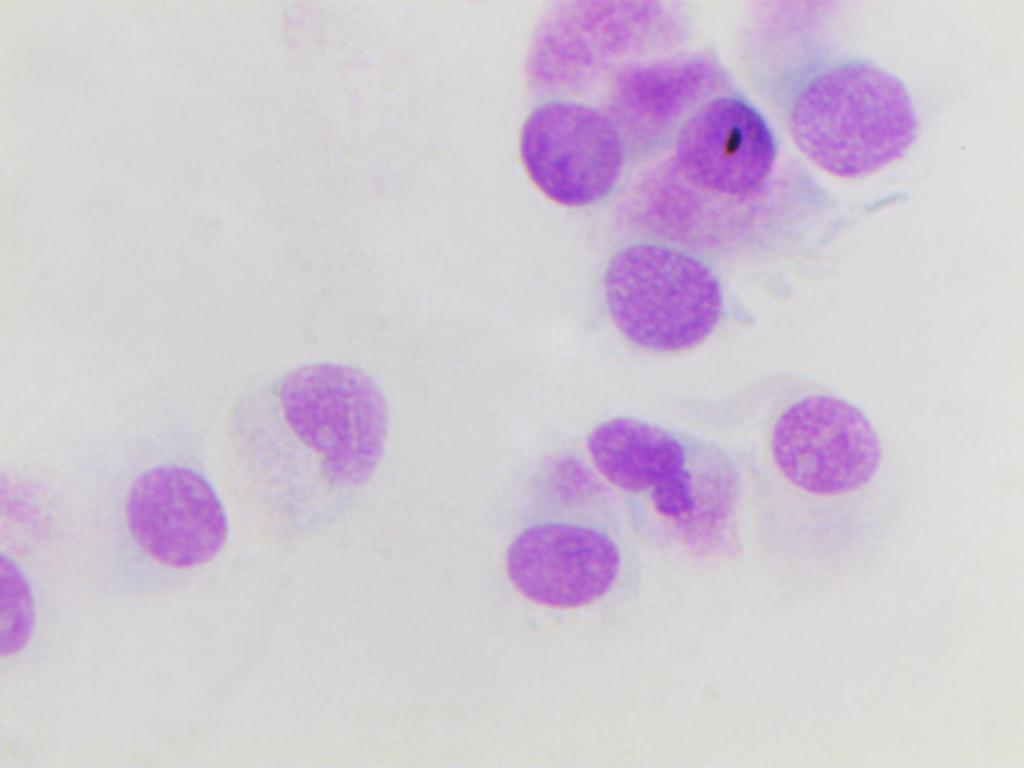epithelial: (261, 319, 412, 513), (112, 416, 243, 620), (776, 1, 927, 177), (748, 342, 910, 497), (568, 222, 742, 356), (468, 502, 624, 617), (583, 410, 719, 518), (509, 88, 635, 201), (670, 95, 773, 193)
